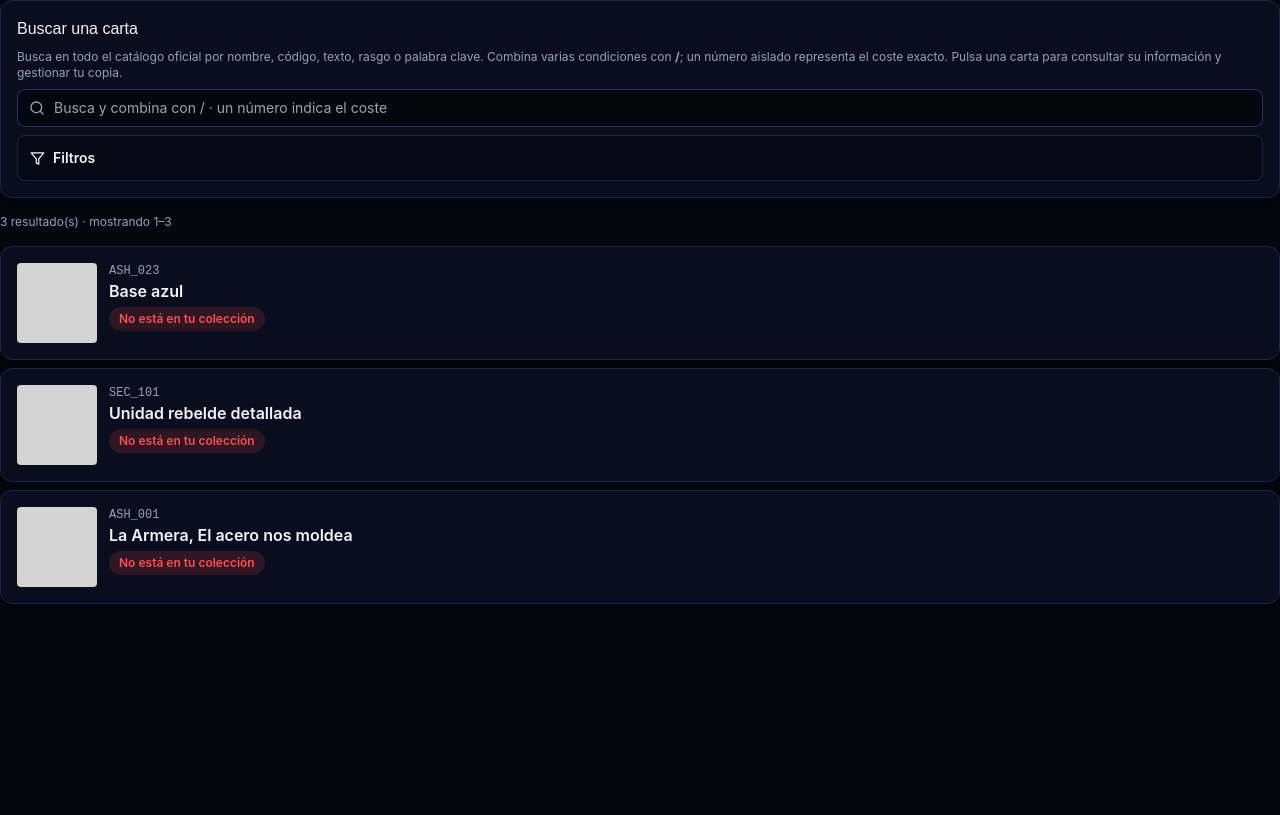
Buscar cartas › permite mostrar únicamente líderes o únicamente bases
Check: the text "3 resultado(s) · mostrando 1–3" is shown, box [0,214,172,229]
Click the heading "Filtros" at (63, 158), box [30,149,95,166]
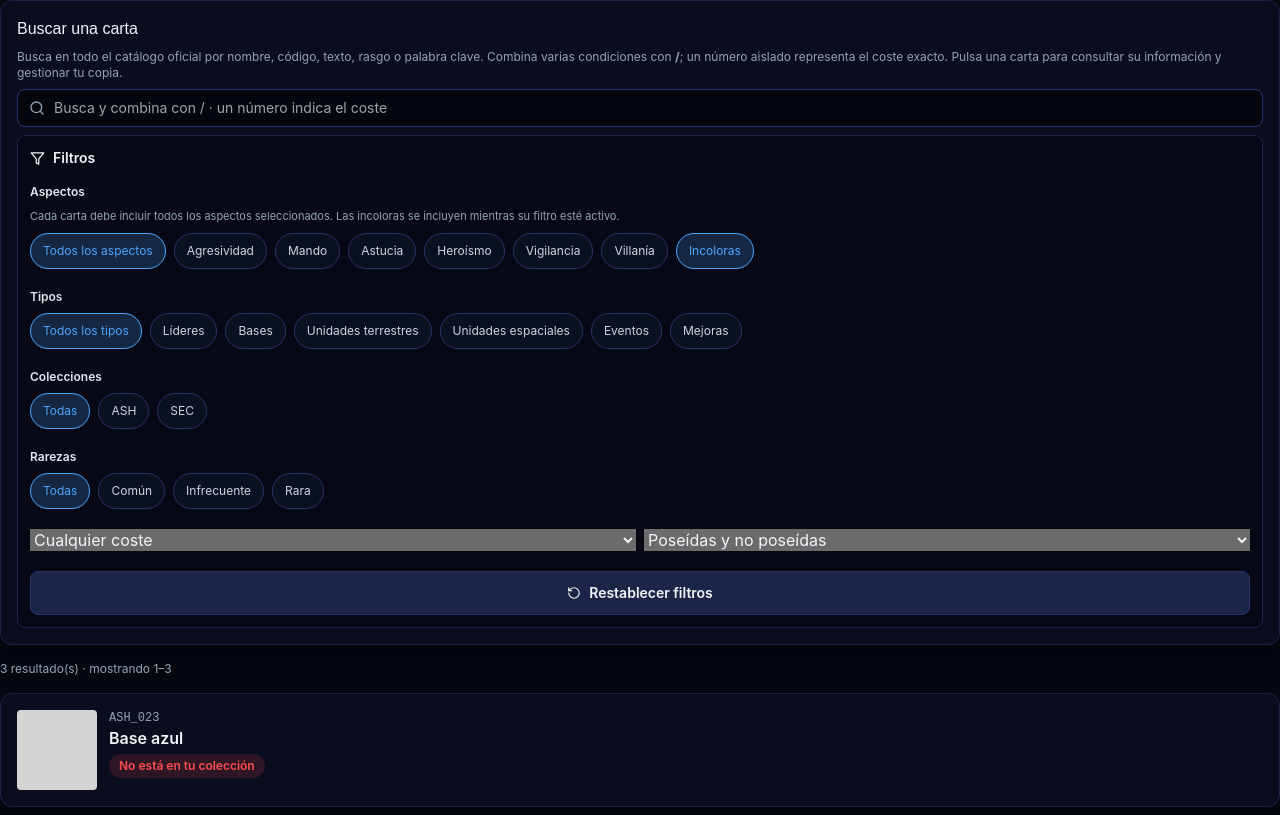
Click the button "Líderes" at (184, 330), box [150,312,218,348]
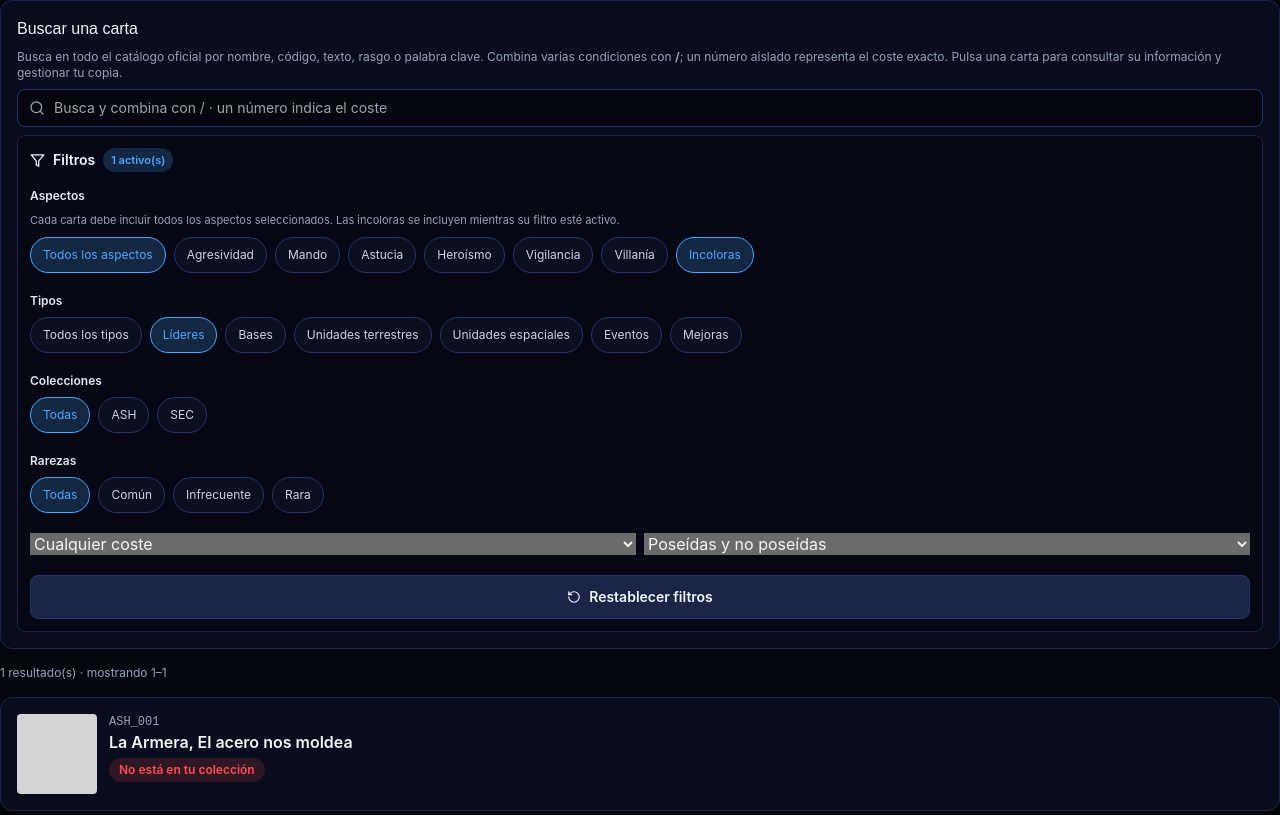
Check: the text "La Armera, El acero nos moldea" is shown, box [109,732,353,752]
Check: the text "1 resultado(s) · mostrando 1–1" is shown, box [0,664,167,680]
Check: the button "Base azul" is gone
Click the button "Todos los tipos" at (86, 334), box [30,316,142,352]
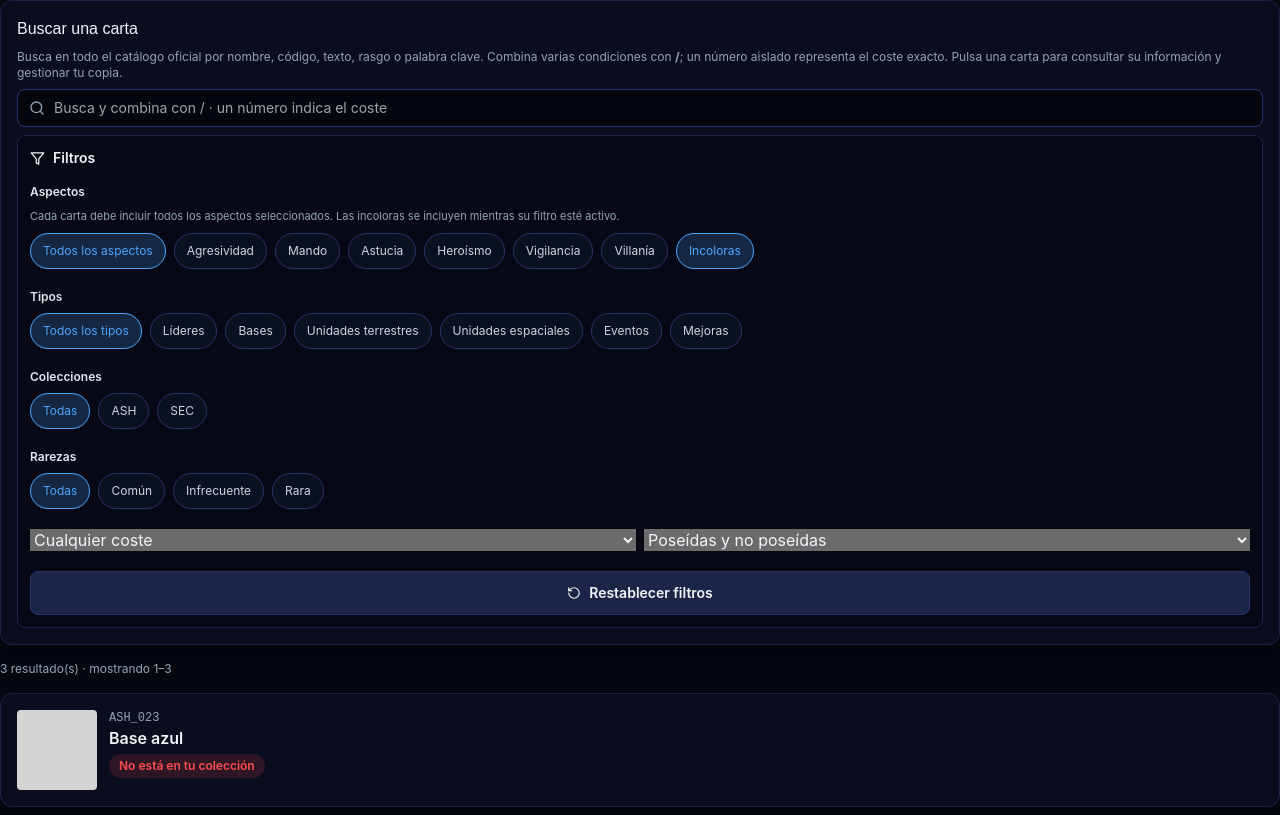
Click the button "Bases" at (256, 330), box [226,312,286,348]
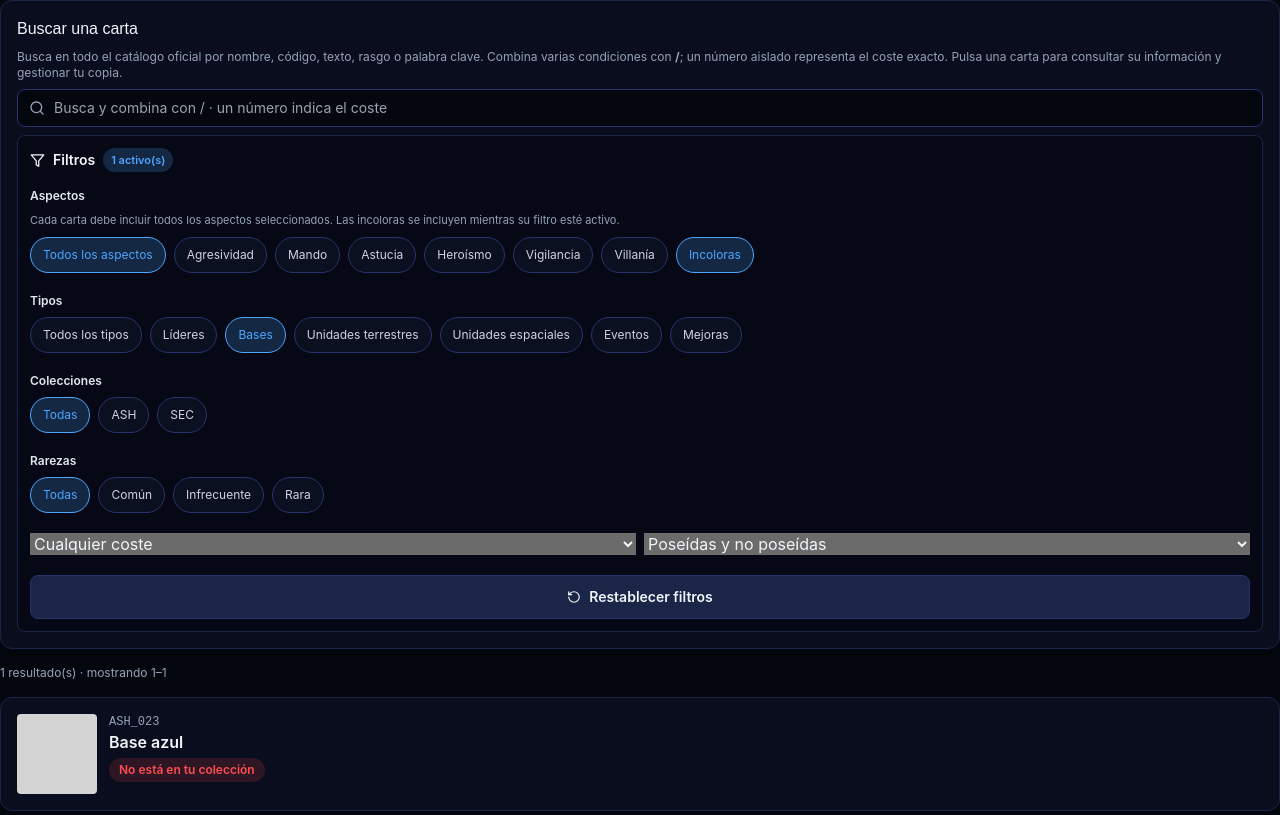
Check: the text "Base azul" is shown, box [109,732,183,752]
Check: the text "1 resultado(s) · mostrando 1–1" is shown, box [0,664,167,680]
